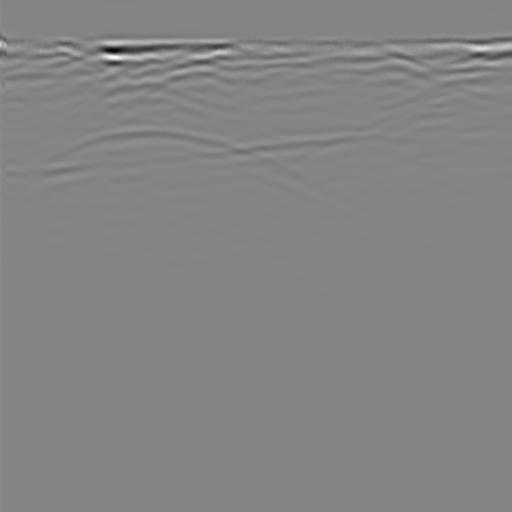hyperbola: (2, 109, 334, 224)
